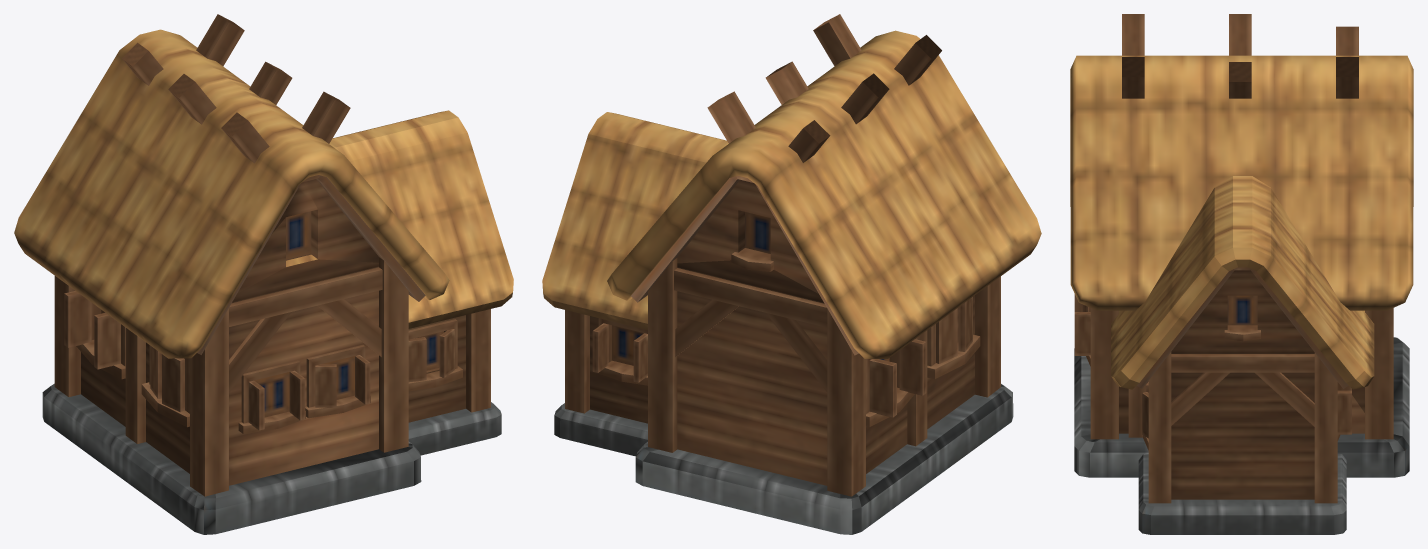
Rendered from house_4_3.FBX.
3 views of the same model, side by side, from view 1: azimuth 30°, elevation 25°; view 2: azimuth 150°, elevation 25°; view 3: azimuth 270°, elevation 25° (orthographic).
Visible parts, largest first — view 1: polySurface1253; view 2: polySurface1253; view 3: polySurface1253.
Part boxes in pixels (x1=…): polySurface1253: x1=14, y1=14, x2=513, y2=534; polySurface1253: x1=542, y1=14, x2=1041, y2=534; polySurface1253: x1=1070, y1=14, x2=1413, y2=534.
Bounding box in the file's own units: 78.49 × 78.37 × 62.61.
